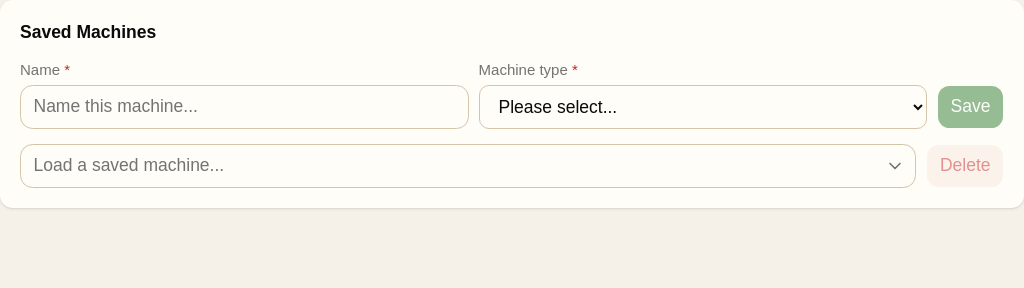
Test: SaveLoadToolbar - delete loads first remaining or resets › shows reset toast when last machine is deleted
The width and height of the screenshot is (1024, 288).
Click the text "Load a saved machine...": point(129, 166) [34,156,224,176]
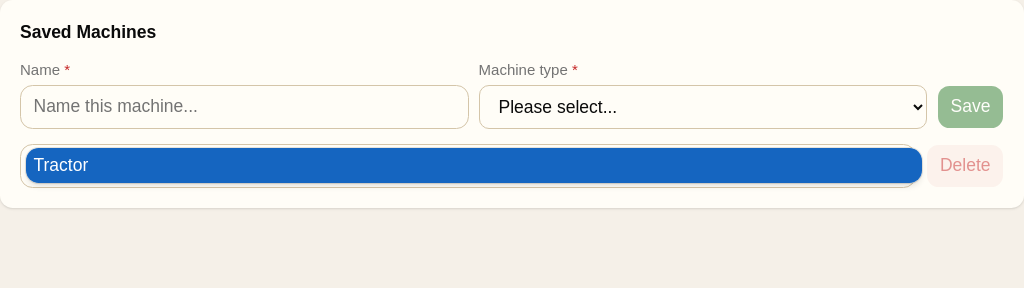
Click the option "Tractor": point(61, 165) [26,148,922,184]
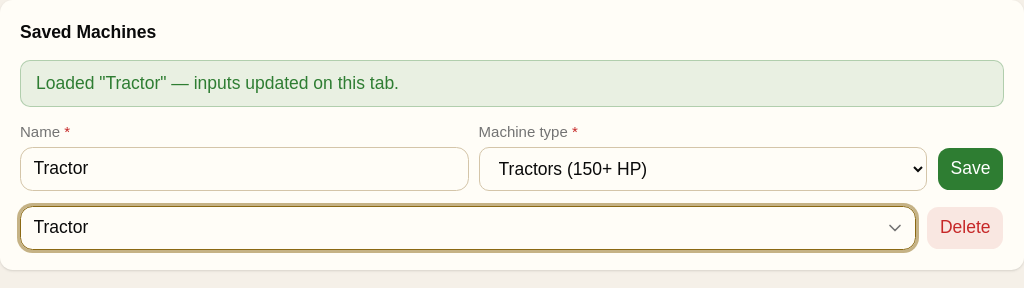
Click the button "Delete": point(965, 228) [926,206,1004,250]
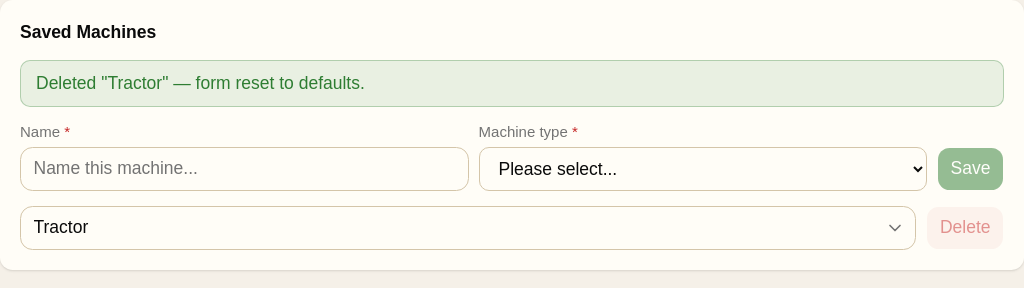
expect the text "Deleted \"Tractor\" — form reset to defaults." is shown: met, box [20,60,1004,107]
